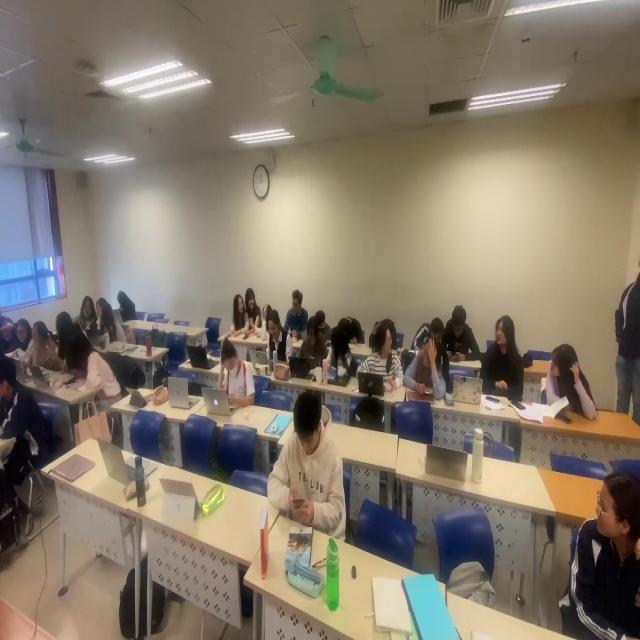raise_head: (73, 290, 101, 339)
stand: (613, 255, 640, 429)
using_computer: (211, 345, 258, 423), (291, 311, 329, 384)
using_phone: (280, 400, 333, 525)
